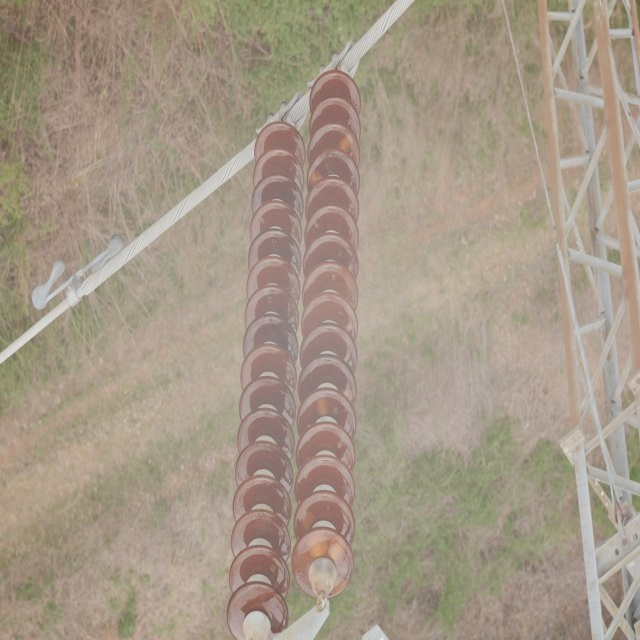insulator: (226, 71, 359, 638)
